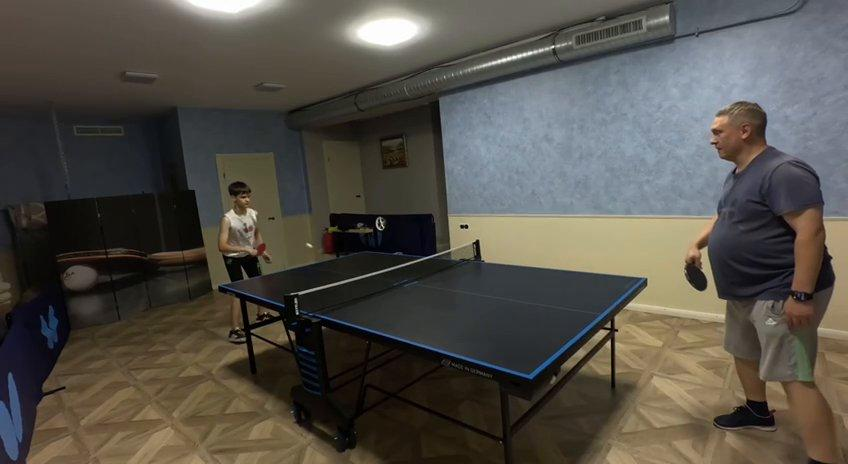Ball: (304, 243, 312, 253)
Net: (291, 240, 481, 315)
Player1: (218, 181, 270, 280)
Player2: (686, 101, 836, 463)
Table: (222, 254, 645, 372)
